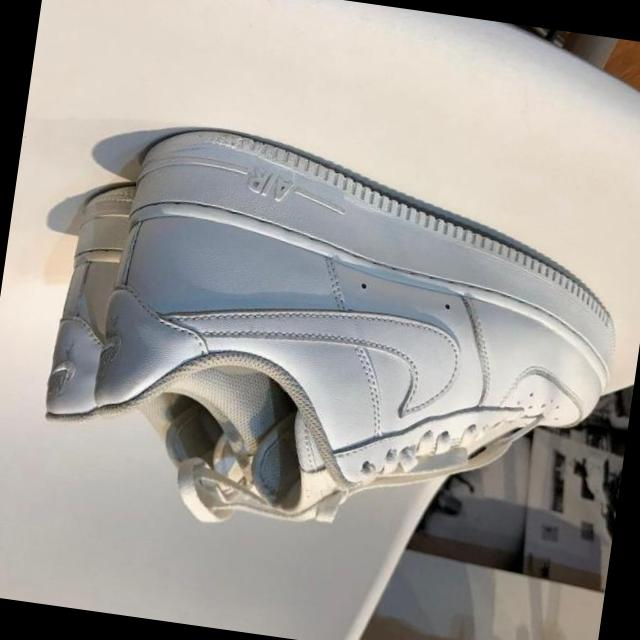nike_original_airforce: (79, 119, 636, 556)
